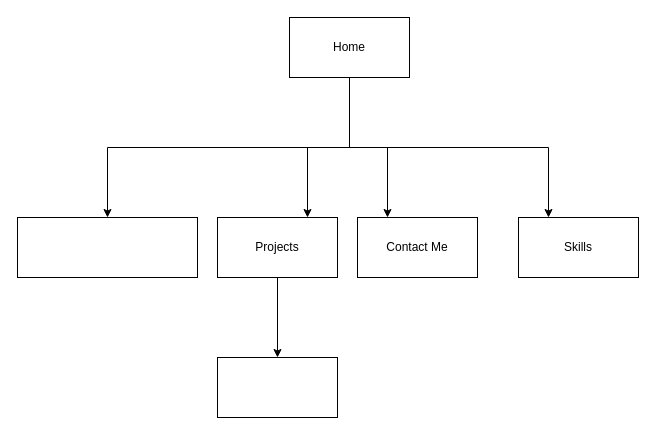
Some shapes in this 656 by 435 pixel diagram are drawn without their labels. The box of each missing label's shape, as (x1, y1, x2, y2) in pixels:
About Me: (16, 216, 198, 278)
Website: (216, 356, 338, 418)
